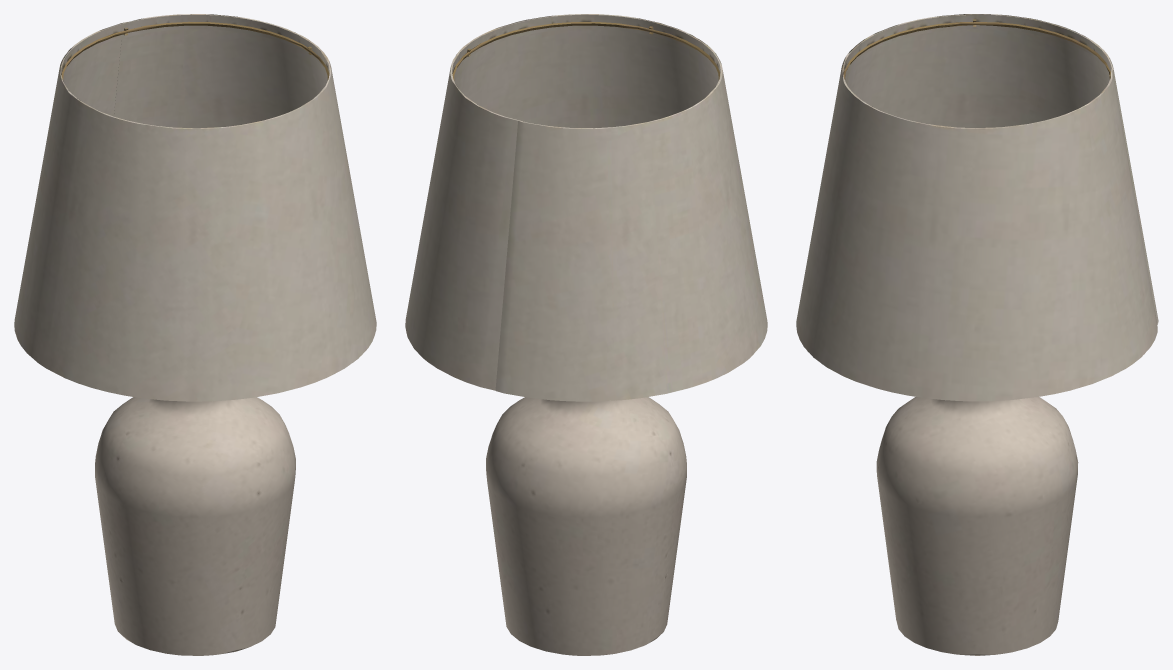
File: blidvaeder_table_lamp_off_white_ceramic_.glb
The picture shows the model from 3 angles, left to right: view 1: azimuth 30°, elevation 25°; view 2: azimuth 150°, elevation 25°; view 3: azimuth 270°, elevation 25°; orthographic projection.
Parts seen in each view (by area): view 1: Mesh_0; view 2: Mesh_0; view 3: Mesh_0.
Part boxes in pixels (bbox=[...]): Mesh_0: bbox=[14, 14, 376, 655]; Mesh_0: bbox=[405, 14, 767, 655]; Mesh_0: bbox=[796, 14, 1158, 655].
Bounding box in the file's own units: 0.3809 × 0.6395 × 0.3807.
Materials: 1 (1 with a texture image).
